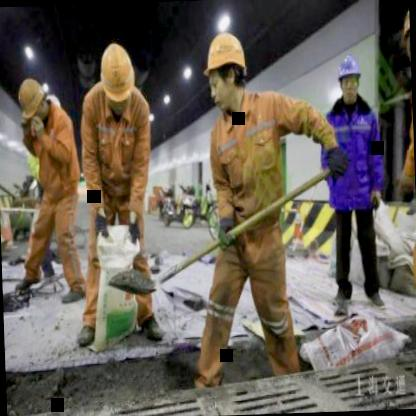helmet: (204, 25, 249, 116), (98, 42, 138, 108), (17, 74, 53, 138), (335, 53, 364, 104)
